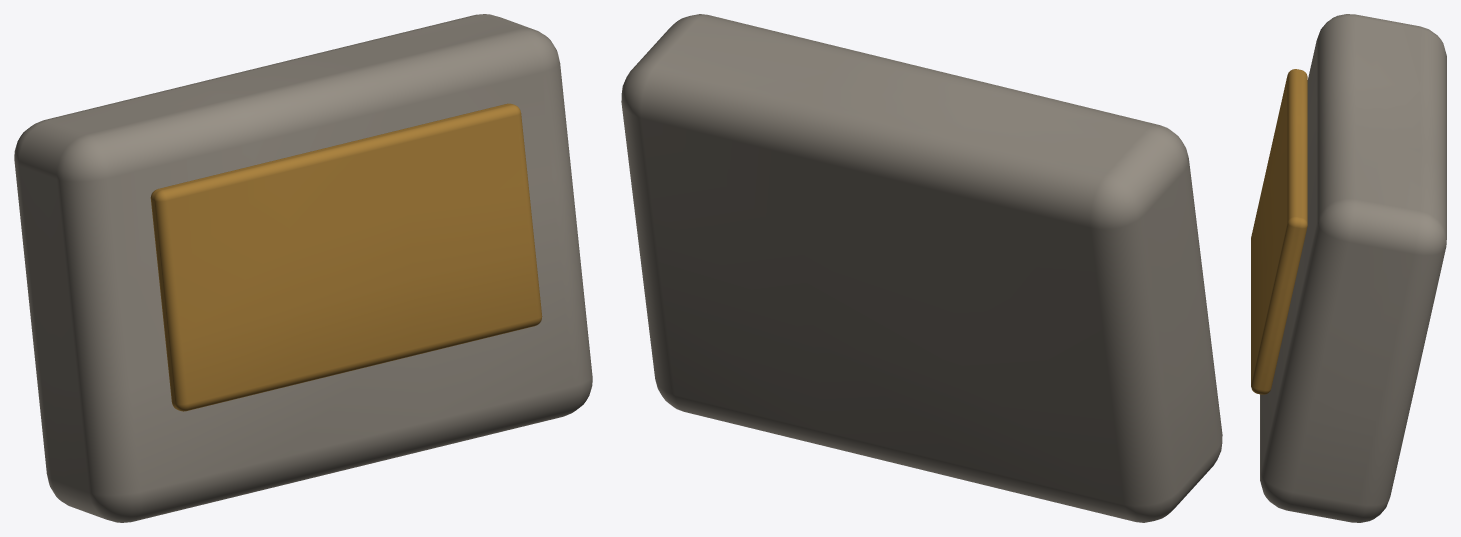
The model's file is plaque.glb.
3 renders of one model, left to right at view 1: azimuth 30°, elevation 25°; view 2: azimuth 150°, elevation 25°; view 3: azimuth 270°, elevation 25°, orthographic. The views are drawn at different scales.
Parts seen in each view (by area): view 1: plaque_main; view 2: plaque_main; view 3: plaque_main.
Part boxes in pixels (left/top/right/bottom): plaque_main: left=14, top=14, right=592, bottom=522; plaque_main: left=621, top=14, right=1222, bottom=522; plaque_main: left=1251, top=14, right=1446, bottom=522.
Bounding box in the file's own units: 0.6 × 0.4288 × 0.2367.
